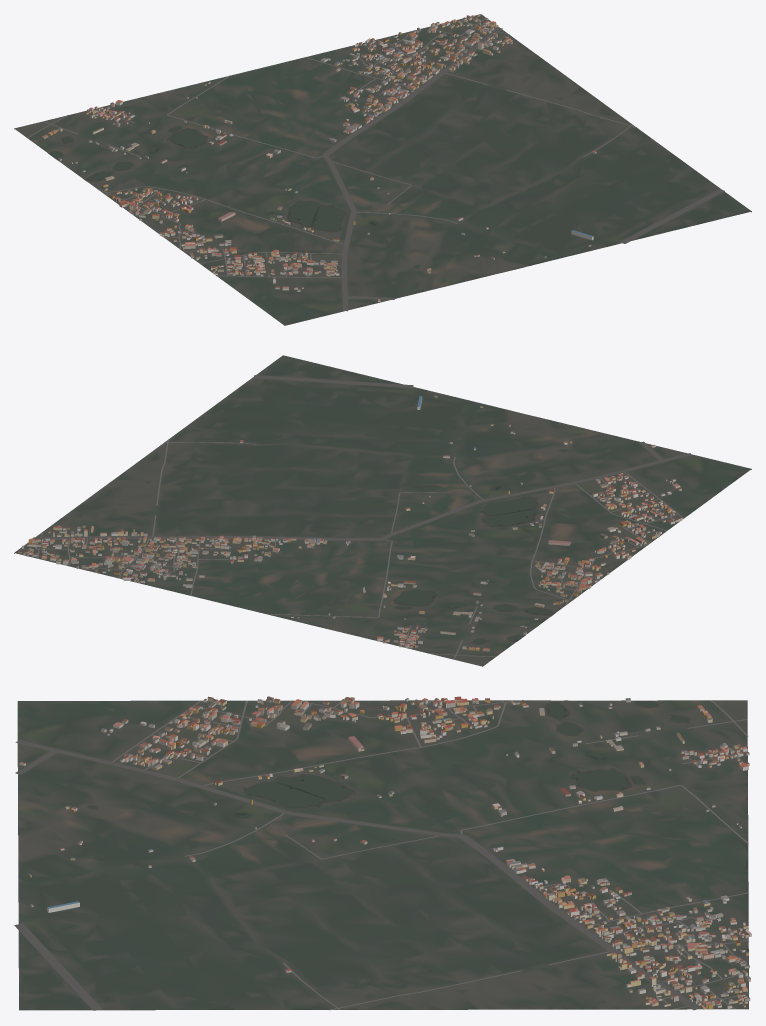
3 views of the same model, one above another, from view 1: azimuth 30°, elevation 25°; view 2: azimuth 150°, elevation 25°; view 3: azimuth 270°, elevation 25° (orthographic). The views are drawn at different scales.
Parts seen in each view (by area): view 1: ground, buildings, roads, water; view 2: ground, buildings, roads, water; view 3: ground, buildings, roads, water.
Boxes of the visible parts, bbox=[...] form: ground: bbox=[14, 14, 751, 325]; buildings: bbox=[41, 14, 596, 301]; roads: bbox=[27, 19, 724, 311]; water: bbox=[51, 125, 493, 281]; ground: bbox=[14, 355, 751, 666]; buildings: bbox=[18, 395, 682, 651]; roads: bbox=[19, 375, 691, 659]; water: bbox=[394, 432, 579, 643]; ground: bbox=[17, 700, 748, 1010]; buildings: bbox=[19, 696, 751, 1009]; roads: bbox=[14, 700, 749, 1010]; water: bbox=[33, 700, 688, 858].
Size of the model in its own units: 1411 by 20 by 1417.
